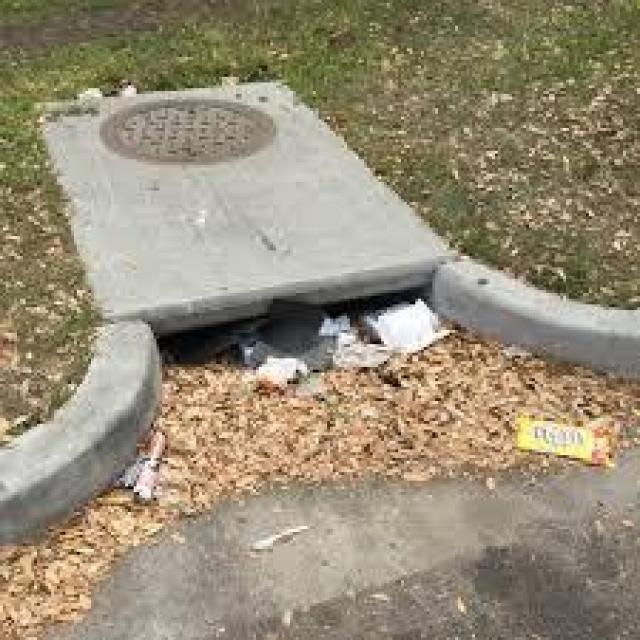bump: (1, 318, 199, 542), (427, 245, 640, 392)
